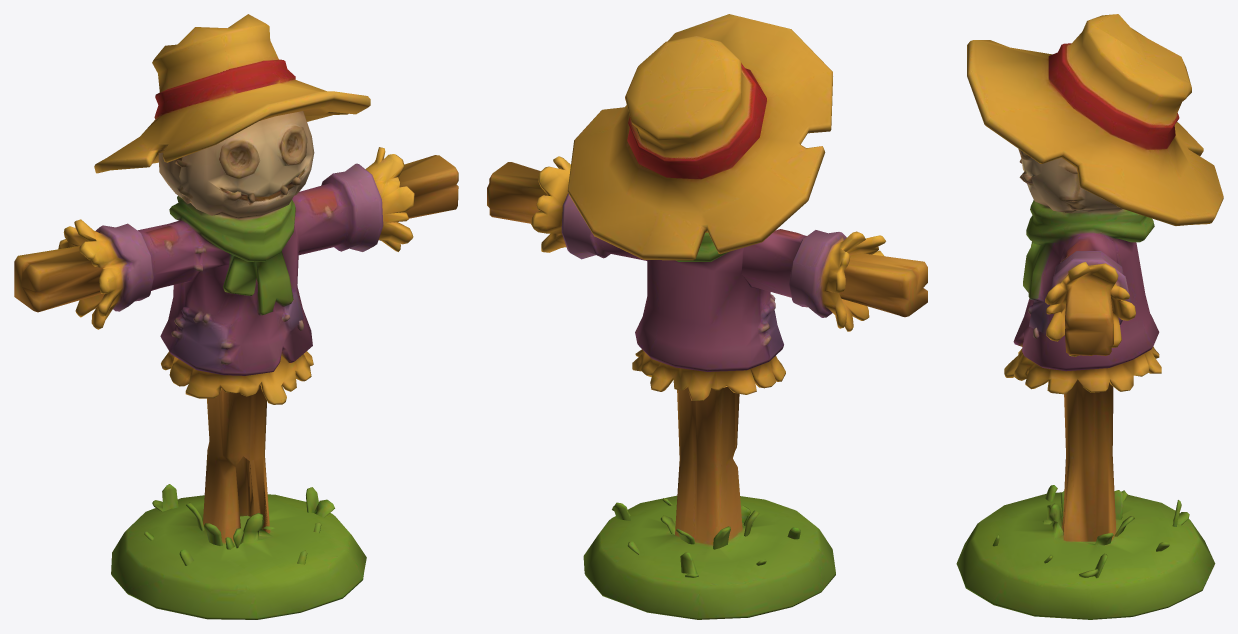
The model's file is scarecrow.glb.
3 renders of one model, left to right at view 1: azimuth 30°, elevation 25°; view 2: azimuth 150°, elevation 25°; view 3: azimuth 270°, elevation 25°, orthographic. The views are drawn at different scales.
Visible parts, largest first — view 1: SkyRally_prop_forest_scarecrow; view 2: SkyRally_prop_forest_scarecrow; view 3: SkyRally_prop_forest_scarecrow.
Boxes of the visible parts, bbox=[...] form: SkyRally_prop_forest_scarecrow: bbox=[14, 14, 458, 619]; SkyRally_prop_forest_scarecrow: bbox=[487, 14, 927, 619]; SkyRally_prop_forest_scarecrow: bbox=[956, 14, 1223, 619].
Bounding box in the file's own units: 9.15 × 11 × 4.93.
Materials: 1 (1 with a texture image).
